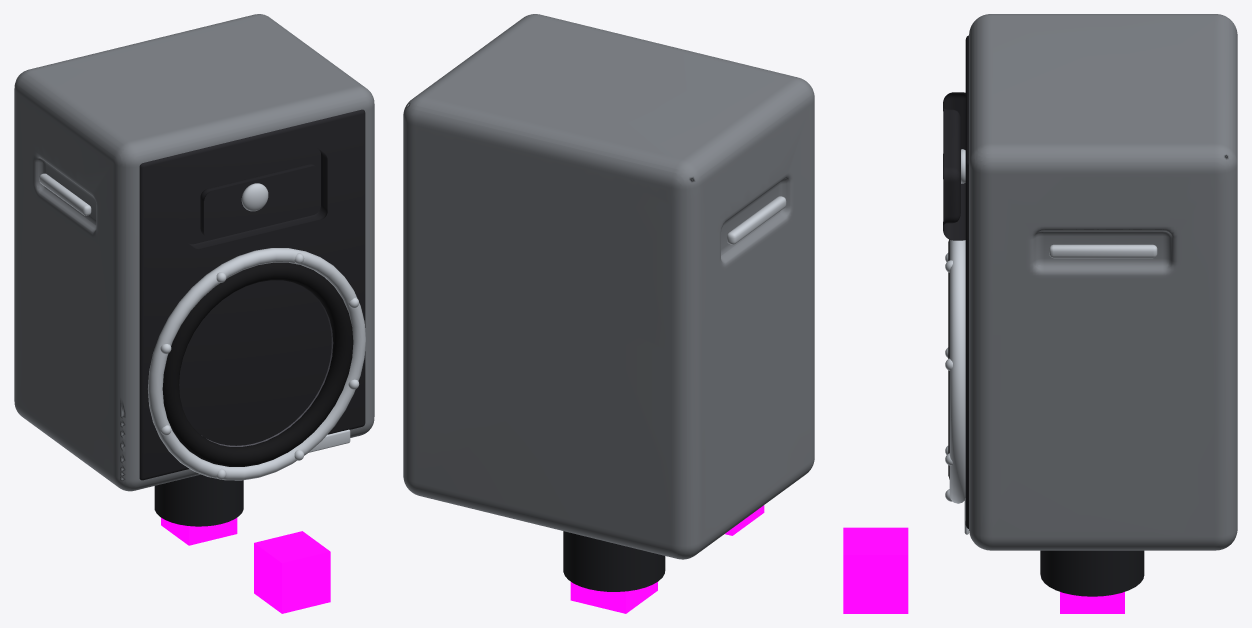
The model's file is SpeakerHead.glb.
3 renders of one model, left to right at view 1: azimuth 30°, elevation 25°; view 2: azimuth 150°, elevation 25°; view 3: azimuth 270°, elevation 25°, orthographic. The views are drawn at different scales.
Visible parts, largest first — view 1: Cabinet, Baffle, Surround, WooferFrame, _Front, NeckJoint, Horn, _Root, HandleBarR, TweeterDome; view 2: Cabinet, NeckJoint, _Root, HandleBarR; view 3: Cabinet, _Front, NeckJoint, WooferFrame, Horn, Baffle, HandleBarL, _Root.
Part boxes in pixels (<box>): Cabinet: <box>14,14,374,491</box>; Baffle: <box>139,109,365,480</box>; Surround: <box>162,262,353,466</box>; WooferFrame: <box>148,248,365,480</box>; _Front: <box>254,531,330,613</box>; NeckJoint: <box>154,474,243,526</box>; Horn: <box>188,149,327,249</box>; _Root: <box>161,517,237,545</box>; HandleBarR: <box>39,173,91,215</box>; TweeterDome: <box>241,183,268,211</box>; Cabinet: <box>403,14,814,559</box>; NeckJoint: <box>563,531,665,591</box>; _Root: <box>570,582,657,613</box>; HandleBarR: <box>727,196,786,244</box>; Cabinet: <box>969,14,1237,550</box>; _Front: <box>843,527,908,613</box>; NeckJoint: <box>1040,550,1144,596</box>; WooferFrame: <box>949,240,965,503</box>; Horn: <box>943,92,965,240</box>; Baffle: <box>965,35,968,528</box>; HandleBarL: <box>1049,244,1157,258</box>; _Root: <box>1060,592,1124,613</box>.
Bounding box in the file's own units: 1.65 × 2.65 × 1.82.
